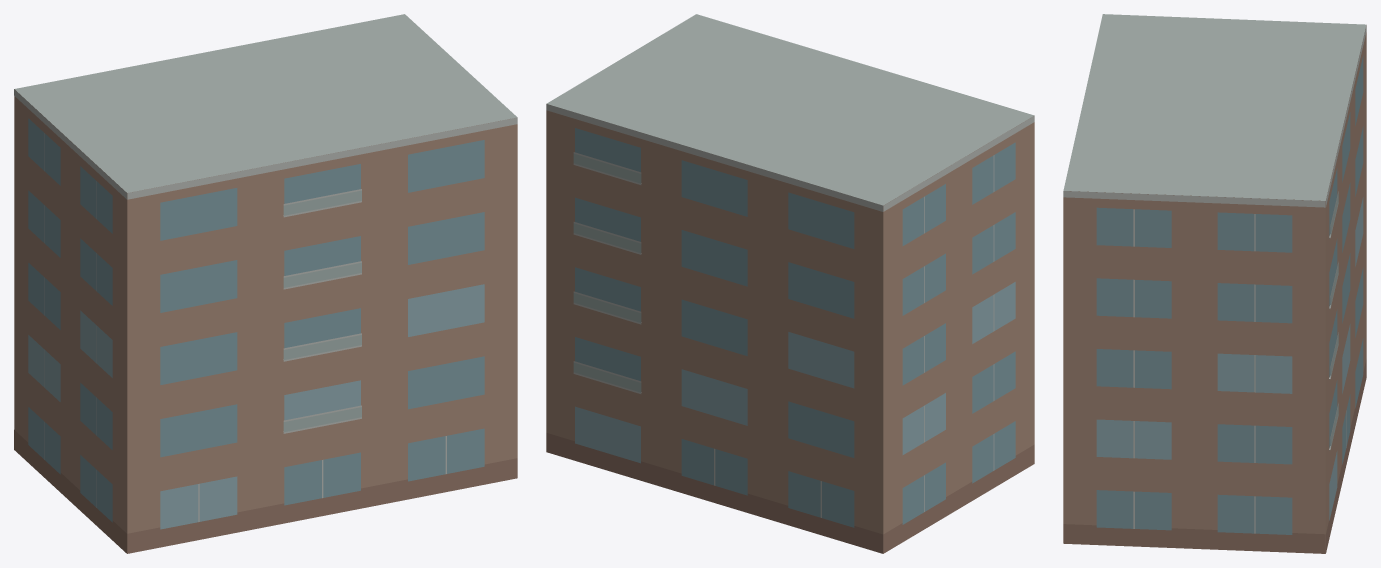
File: survey-upis-32593691.glb
3 renders of one model, left to right at view 1: azimuth 30°, elevation 25°; view 2: azimuth 150°, elevation 25°; view 3: azimuth 270°, elevation 25°, orthographic. The views are drawn at different scales.
Visible parts, largest first — view 1: survey-upis-32593691.tmp; view 2: survey-upis-32593691.tmp; view 3: survey-upis-32593691.tmp.
Part boxes in pixels (x1,y1,x2,y2): survey-upis-32593691.tmp: (14,14,517,553); survey-upis-32593691.tmp: (546,14,1034,553); survey-upis-32593691.tmp: (1063,14,1366,553).
Size of the model in its own units: 14.89 by 13.1 by 10.21.
